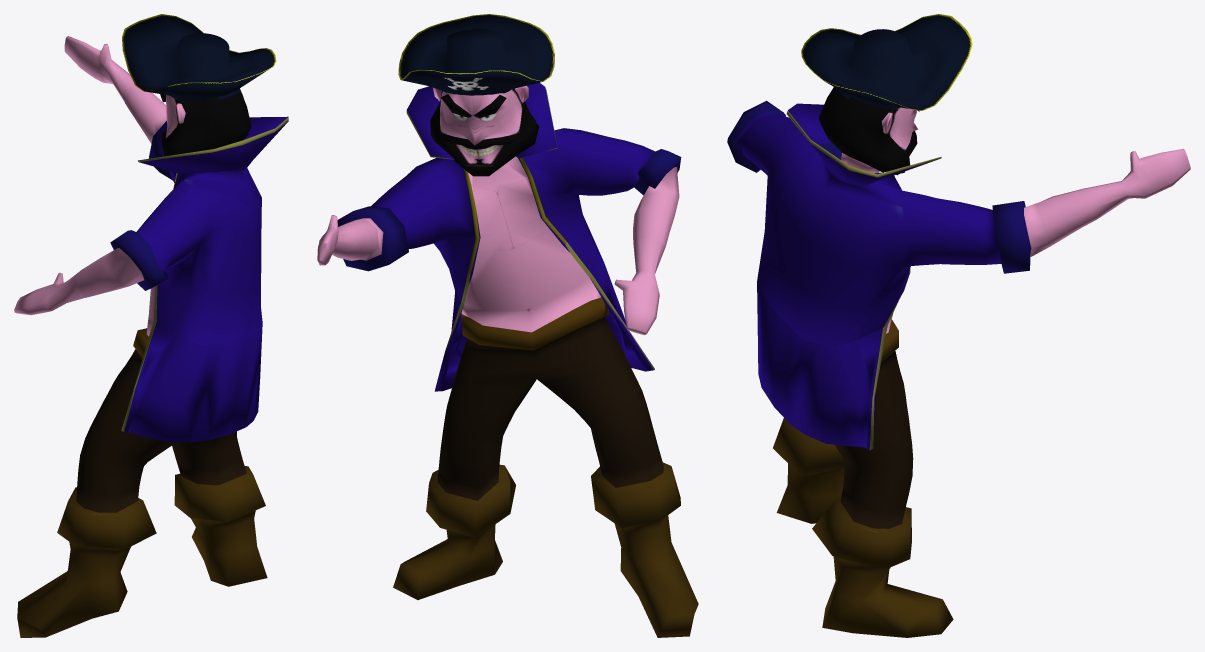
File: pirata_000394.obj
3 renders of one model, left to right at view 1: azimuth 30°, elevation 25°; view 2: azimuth 150°, elevation 25°; view 3: azimuth 270°, elevation 25°, orthographic. The views are drawn at different scales.
Parts seen in each view (by area): view 1: Pirata_PirataH; view 2: Pirata_PirataH; view 3: Pirata_PirataH.
Part boxes in pixels (x1,y1,x2,y2): Pirata_PirataH: (14, 14, 288, 637); Pirata_PirataH: (317, 14, 698, 637); Pirata_PirataH: (727, 14, 1190, 637).
Bounding box in the file's own units: 4.93 × 9.48 × 6.82.
Materials: 1 (1 with a texture image).
